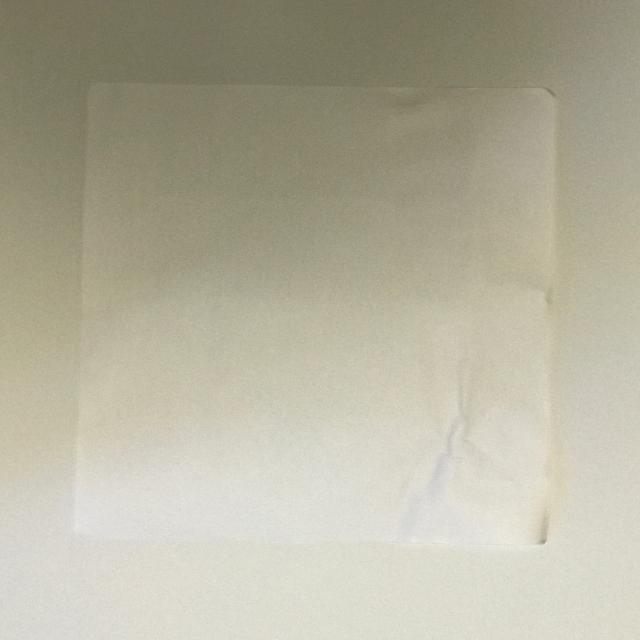Paper: (72, 75, 584, 562)
